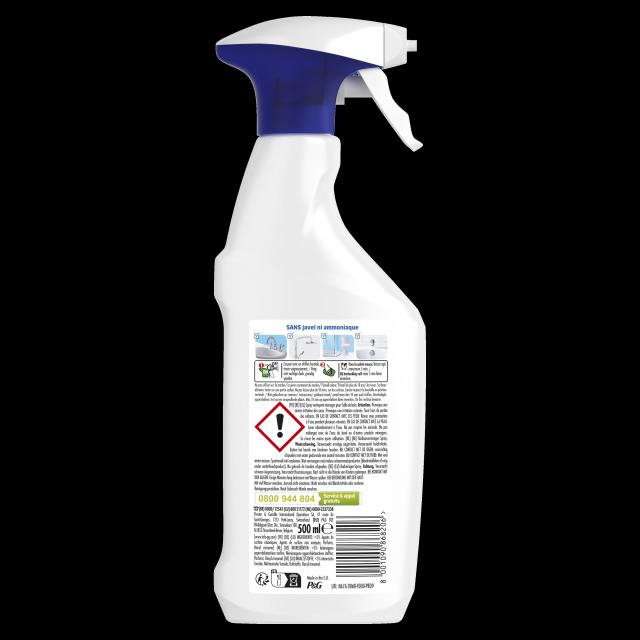GHS_Symbol_EXCLAMATION_MARK: (255, 401, 305, 452)
